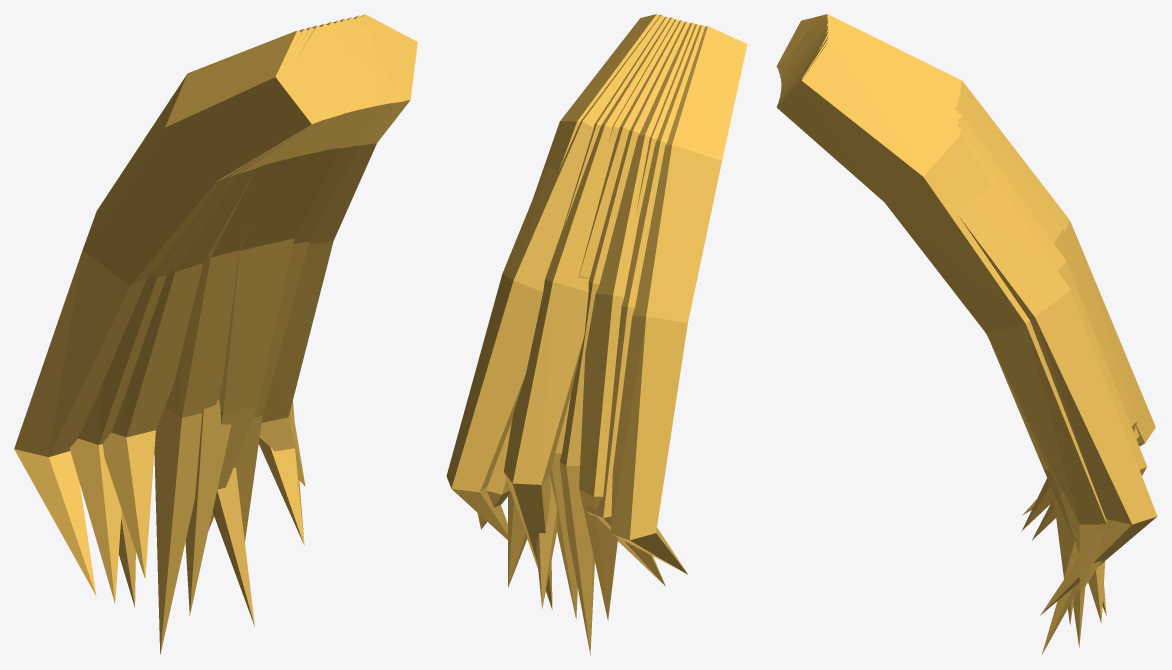
File: BossSteedTail.obj
The picture shows the model from 3 angles, left to right: view 1: azimuth 30°, elevation 25°; view 2: azimuth 150°, elevation 25°; view 3: azimuth 270°, elevation 25°; orthographic projection. The views are drawn at different scales.
Visible parts, largest first — view 1: BossSteedTail; view 2: BossSteedTail; view 3: BossSteedTail.
Boxes of the visible parts, bbox=[...] form: BossSteedTail: bbox=[14, 14, 417, 654]; BossSteedTail: bbox=[446, 14, 747, 655]; BossSteedTail: bbox=[776, 14, 1157, 654].
Size of the model in its own units: 1.37 by 3.47 by 1.9.
